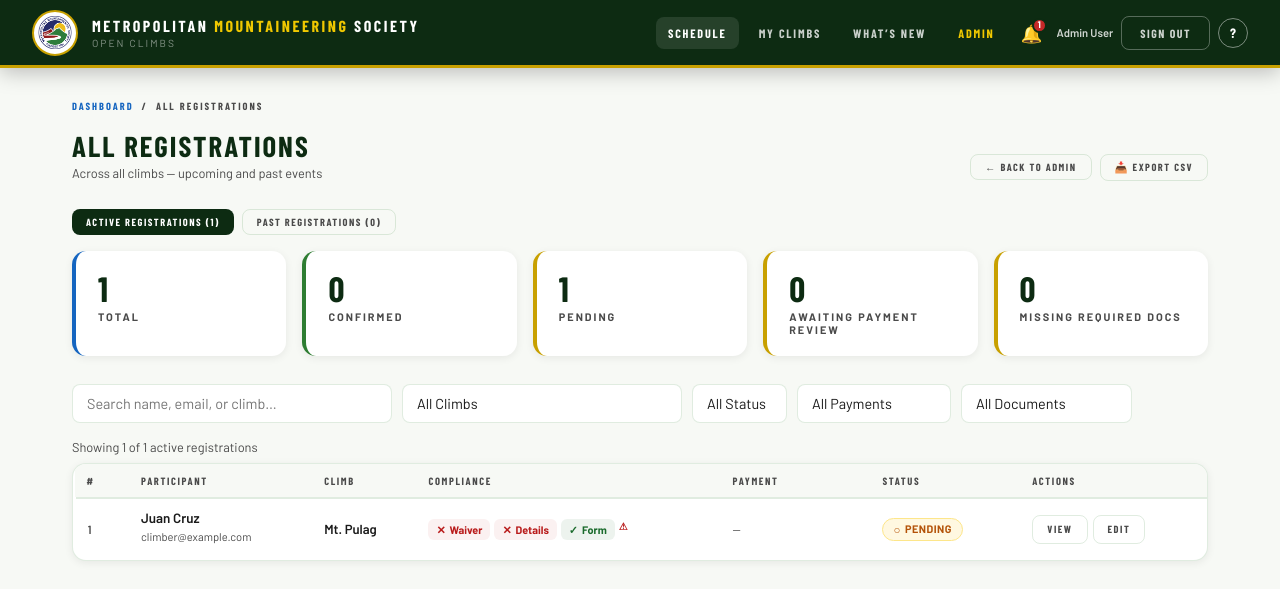
it: Admin AllRegistrations › shows an already-submitted document as read-only with an Update toggle in the admin Manage Documents modal
Click the text "Juan Cruz": (170,518) [141,510,200,526]
(page scrolled)
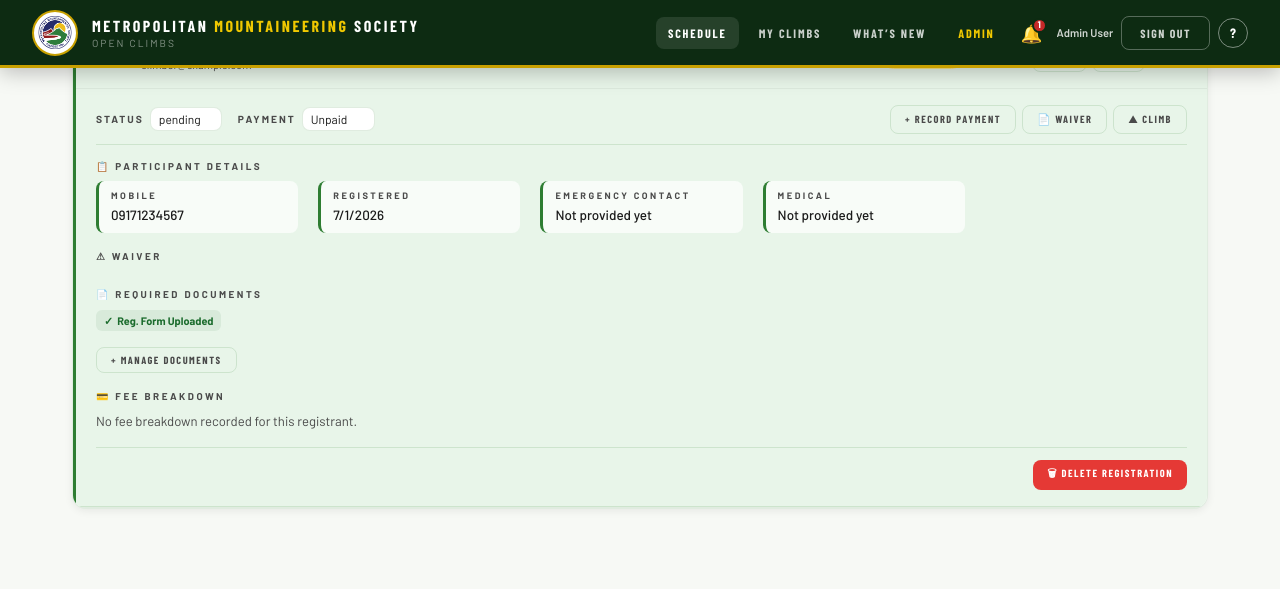
Click the button "+ Manage Documents": (166,360) [96,347,237,373]
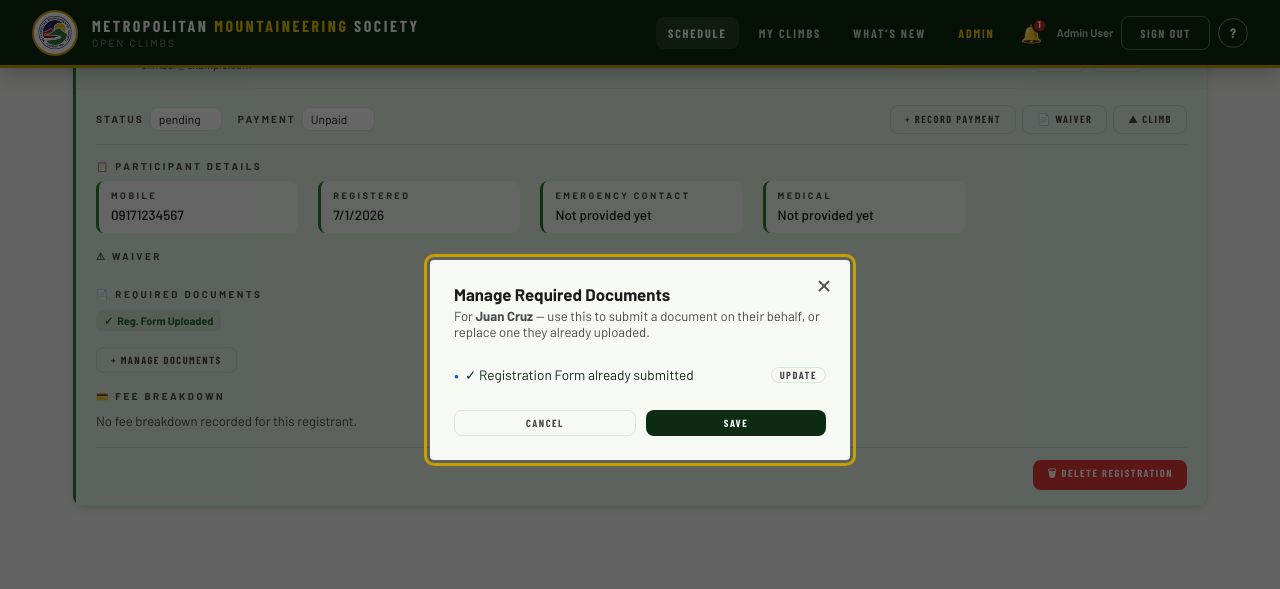
Expected: the text "✓ Registration Form already submitted" is shown, [465,366,694,384]
Click the button "Update": (798,375) [771,367,826,383]
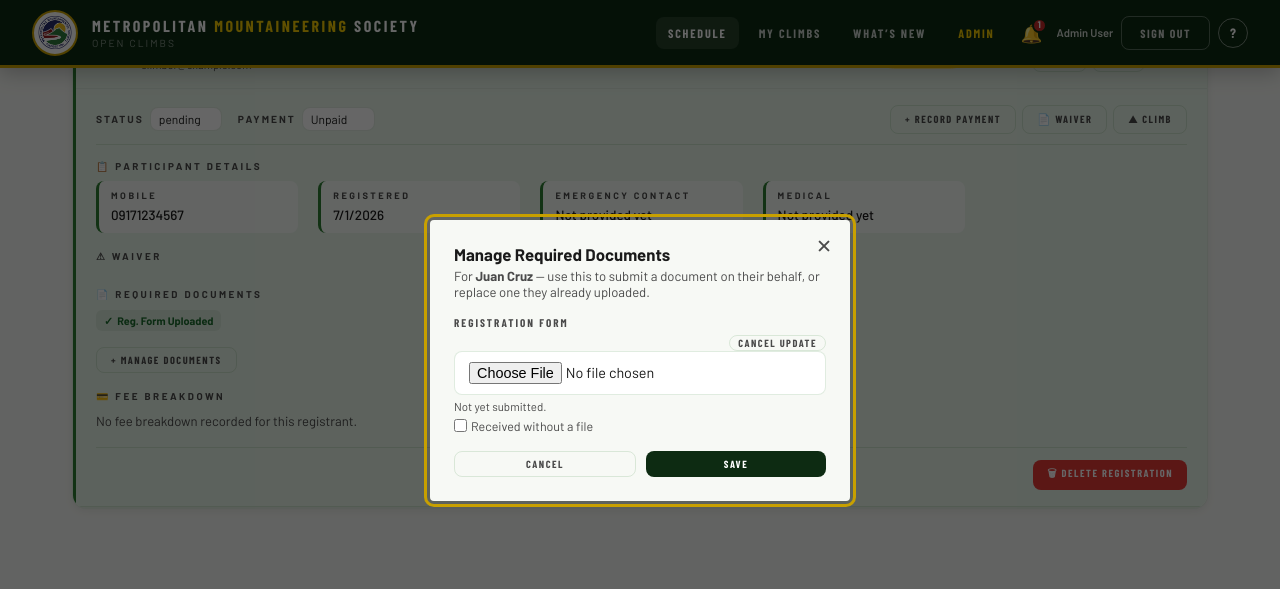
Expected: the text "Registration Form" is shown, [454,316,569,328]
Expected: the text "already submitted" is gone
